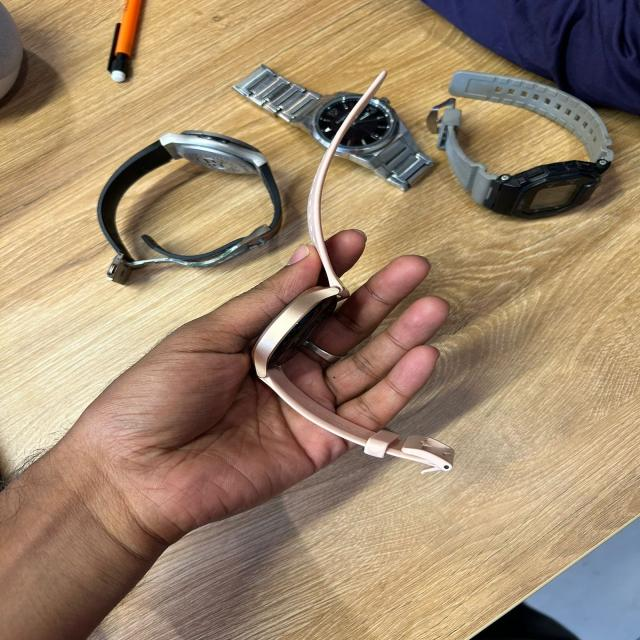watch: (427, 68, 615, 220), (230, 62, 435, 193)
